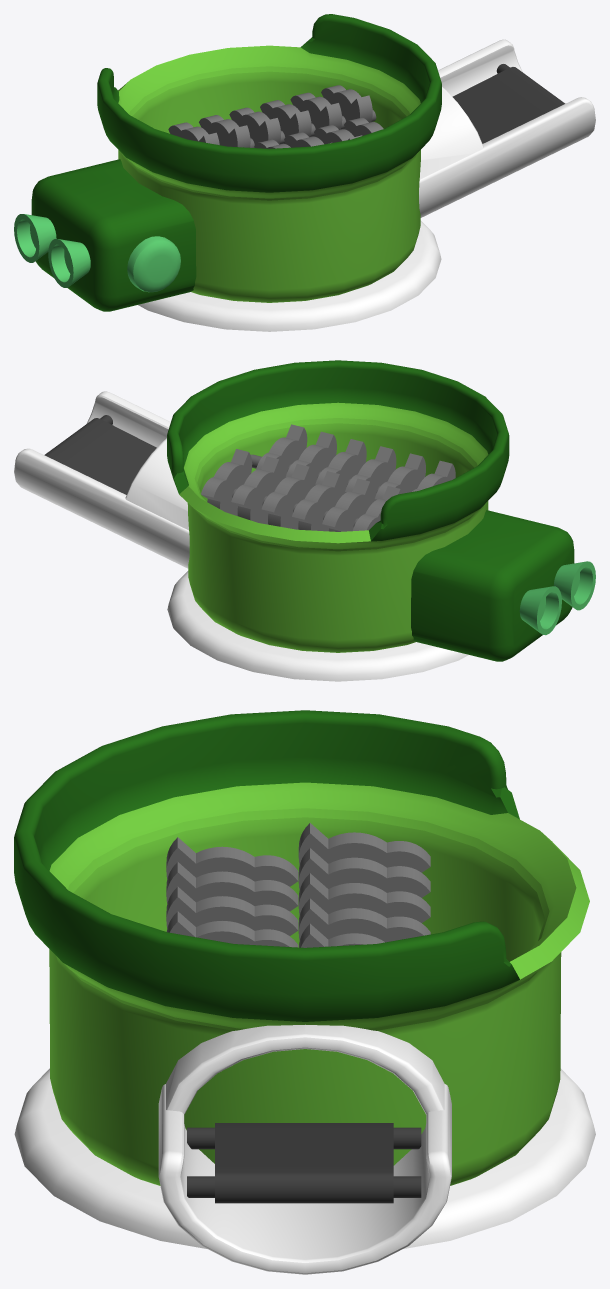
The model's file is ogutucu.fbx.
The picture shows the model from 3 angles, top to bottom: view 1: azimuth 30°, elevation 25°; view 2: azimuth 150°, elevation 25°; view 3: azimuth 270°, elevation 25°; orthographic projection. The views are drawn at different scales.
Parts seen in each view (by area): view 1: govde.010, motor, uc, kesiciUc, palet.010, kesiciUc2; view 2: govde.010, motor, uc, kesiciUc, kesiciUc2, palet.010; view 3: govde.010, uc, palet.010, kesiciUc, kesiciUc2.
Part boxes in pixels (left/top/right/bottom): govde.010: left=97, top=14, right=441, bottom=331; motor: left=14, top=159, right=196, bottom=311; uc: left=419, top=39, right=595, bottom=217; kesiciUc: left=168, top=85, right=372, bottom=147; palet.010: left=452, top=64, right=565, bottom=143; kesiciUc2: left=241, top=118, right=383, bottom=148; govde.010: left=167, top=360, right=509, bottom=681; motor: left=411, top=510, right=595, bottom=661; uc: left=14, top=391, right=189, bottom=568; kesiciUc: left=201, top=449, right=402, bottom=531; kesiciUc2: left=256, top=424, right=455, bottom=502; palet.010: left=44, top=415, right=156, bottom=494; govde.010: left=14, top=710, right=595, bottom=1248; uc: left=158, top=1024, right=451, bottom=1274; palet.010: left=187, top=1123, right=421, bottom=1203; kesiciUc: left=298, top=823, right=430, bottom=947; kesiciUc2: left=166, top=837, right=298, bottom=947.
Size of the model in its own units: 1175 by 386 by 671.
